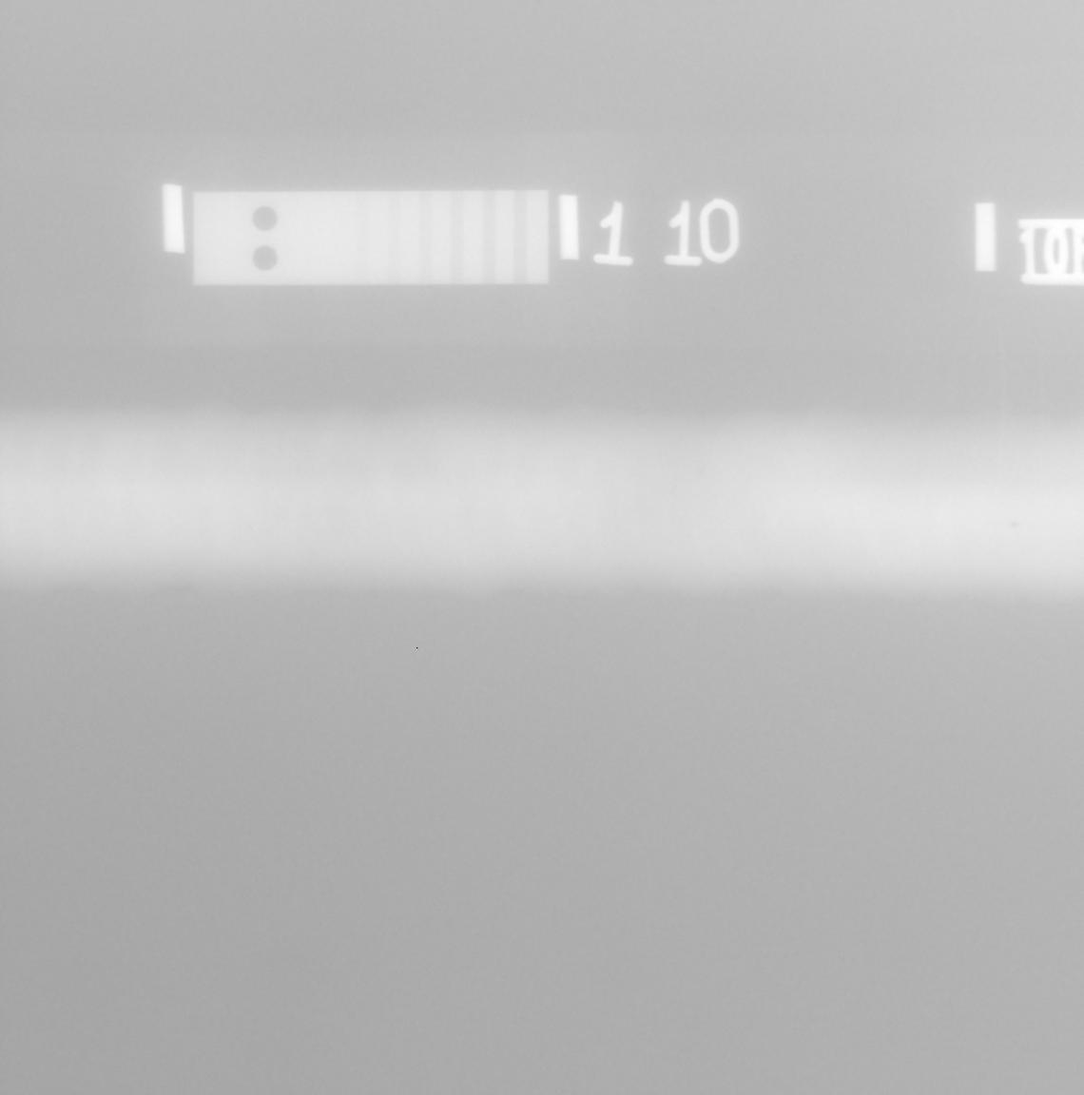Inclusion: (696, 465, 706, 477)
Pore/Porosity: (1011, 522, 1018, 528)
Reference Standard 2: (194, 190, 550, 285)
